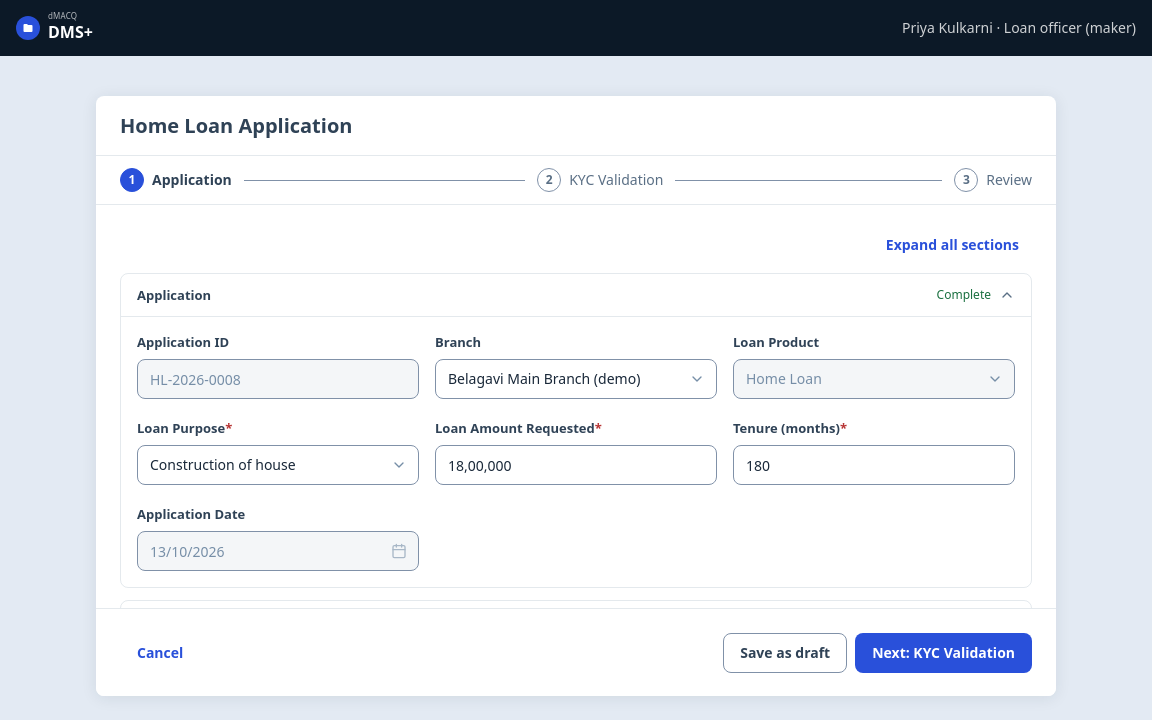
Review and submit › opens from Step 2 with Back and Submit application in the footer
Click the button "Next: KYC Validation" at (944, 652), box 855,632 -> 1032,672
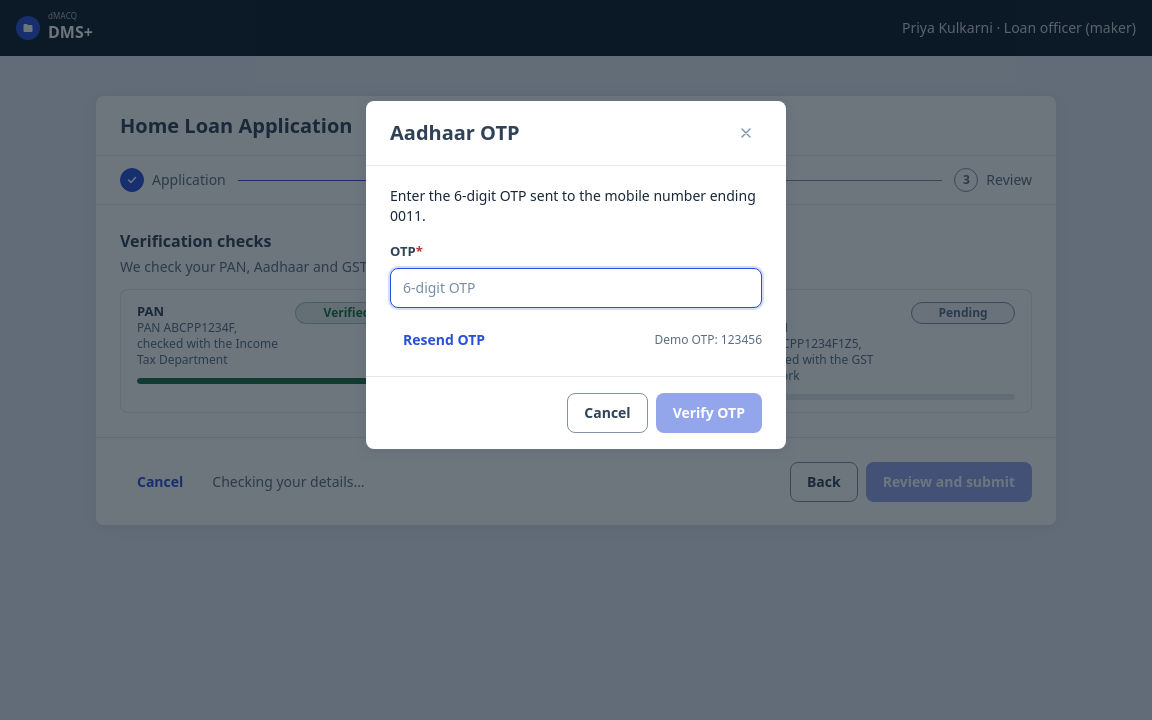
expect the dialog "Aadhaar OTP" is shown: met, box 366,101 -> 786,449
Type "123456" into the field labelled "OTP*" at (576, 288), box 390,268 -> 762,308
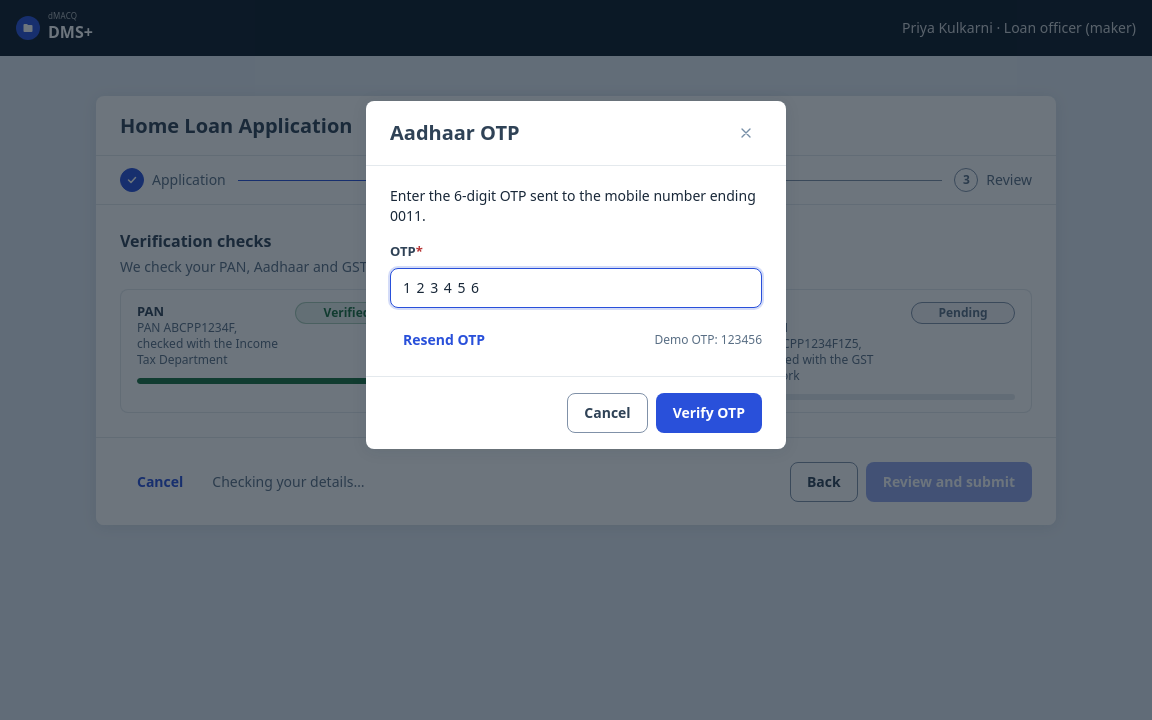
Click the button "Verify OTP" at (709, 413), box 656,393 -> 762,433
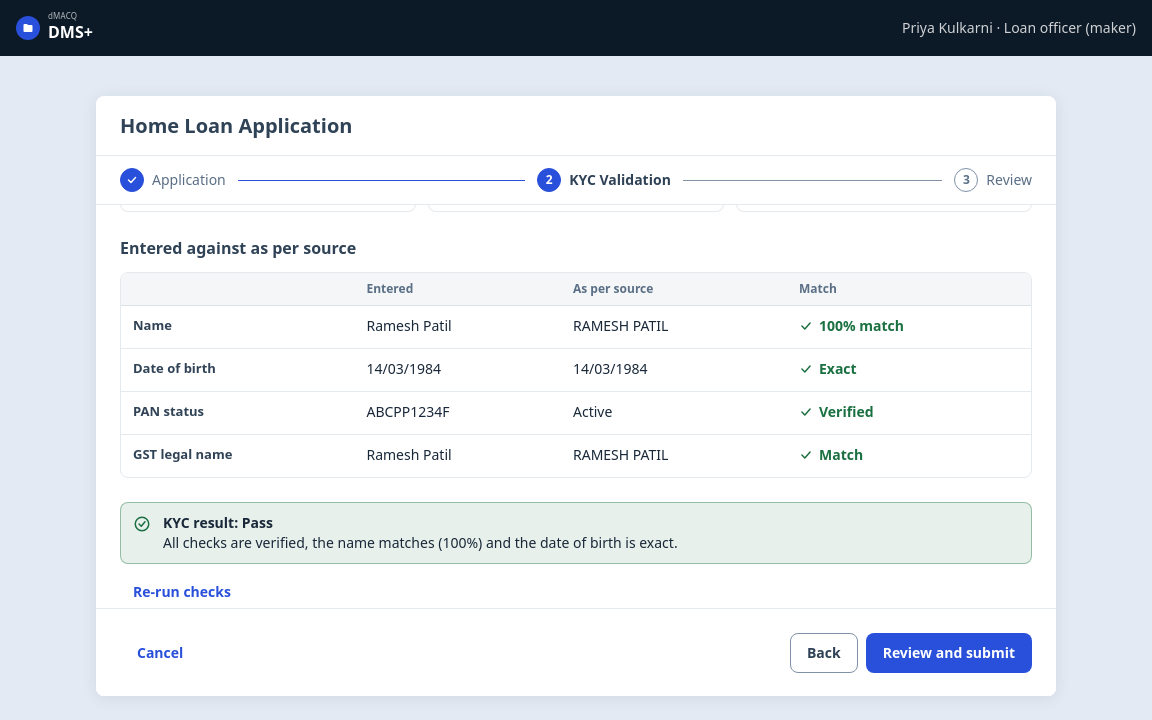
expect the text "KYC result: Pass" is shown: met, box 163,513 -> 273,532
Click the button "Review and submit" at (949, 652), box 866,632 -> 1032,672
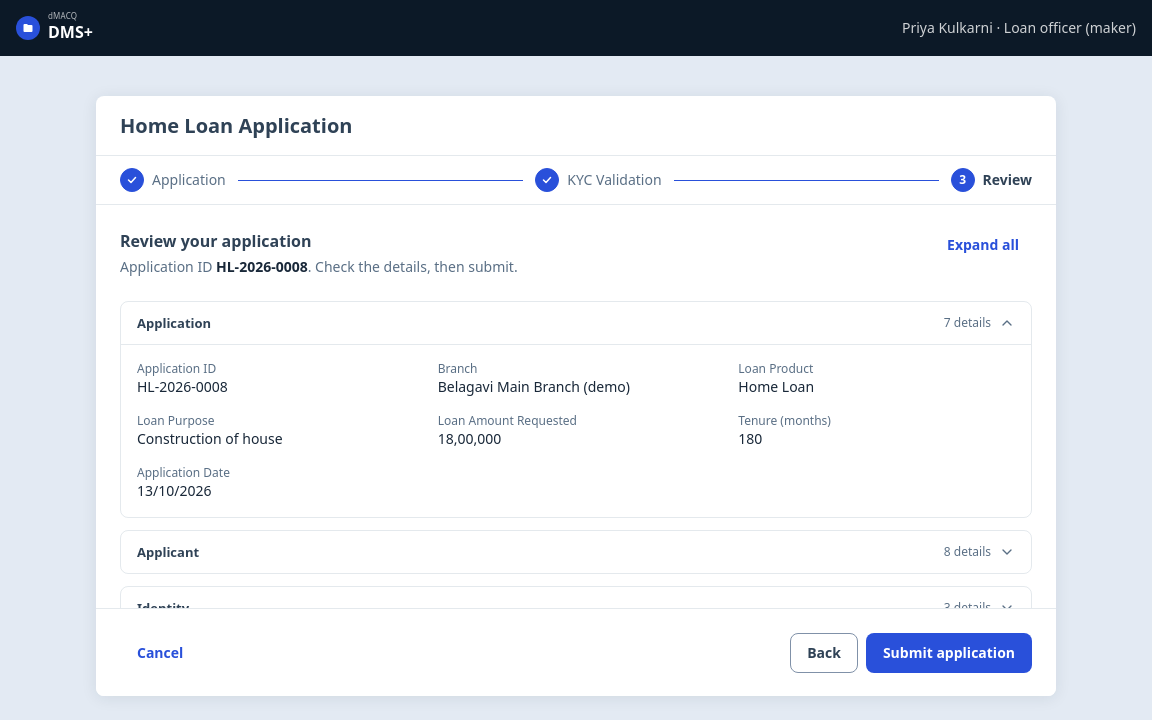
expect the button "Back" is shown: met, box 790,632 -> 858,672
expect the button "Submit application" is enabled: met, box 866,632 -> 1032,672
expect the heading "Review your application" is shown: met, box 120,230 -> 311,252
